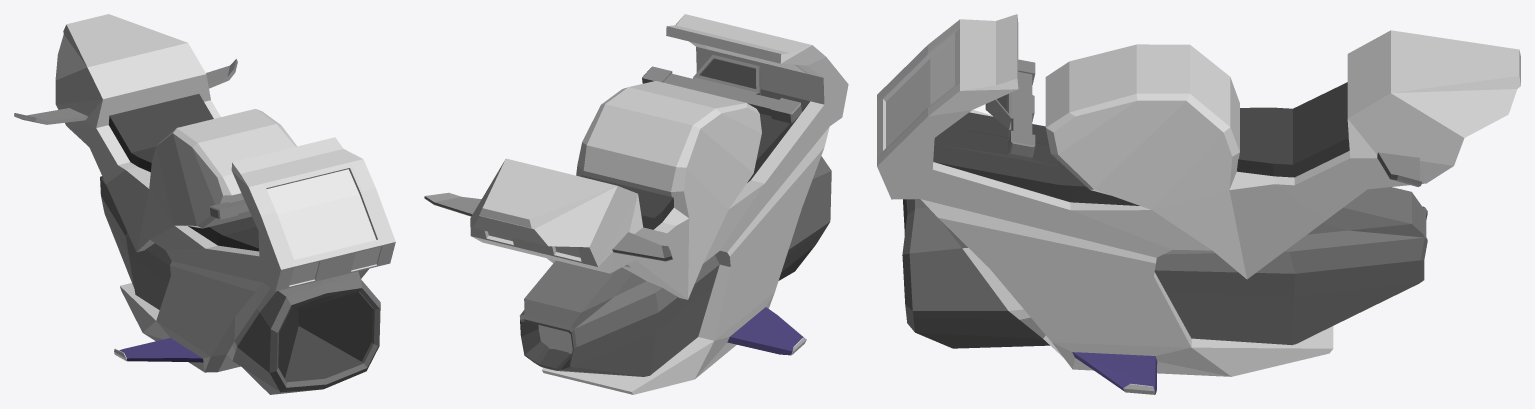
Rendered from Bike.fbx.
The picture shows the model from 3 angles, left to right: view 1: azimuth 30°, elevation 25°; view 2: azimuth 150°, elevation 25°; view 3: azimuth 270°, elevation 25°; orthographic projection. The views are drawn at different scales.
Visible parts, largest first — view 1: Bike; view 2: Bike; view 3: Bike.
Part boxes in pixels (left/top/right/bottom): Bike: left=14, top=14, right=395, bottom=394; Bike: left=424, top=14, right=848, bottom=394; Bike: left=877, top=14, right=1520, bottom=394.
Size of the model in its own units: 11.38 by 10.79 by 21.36.
